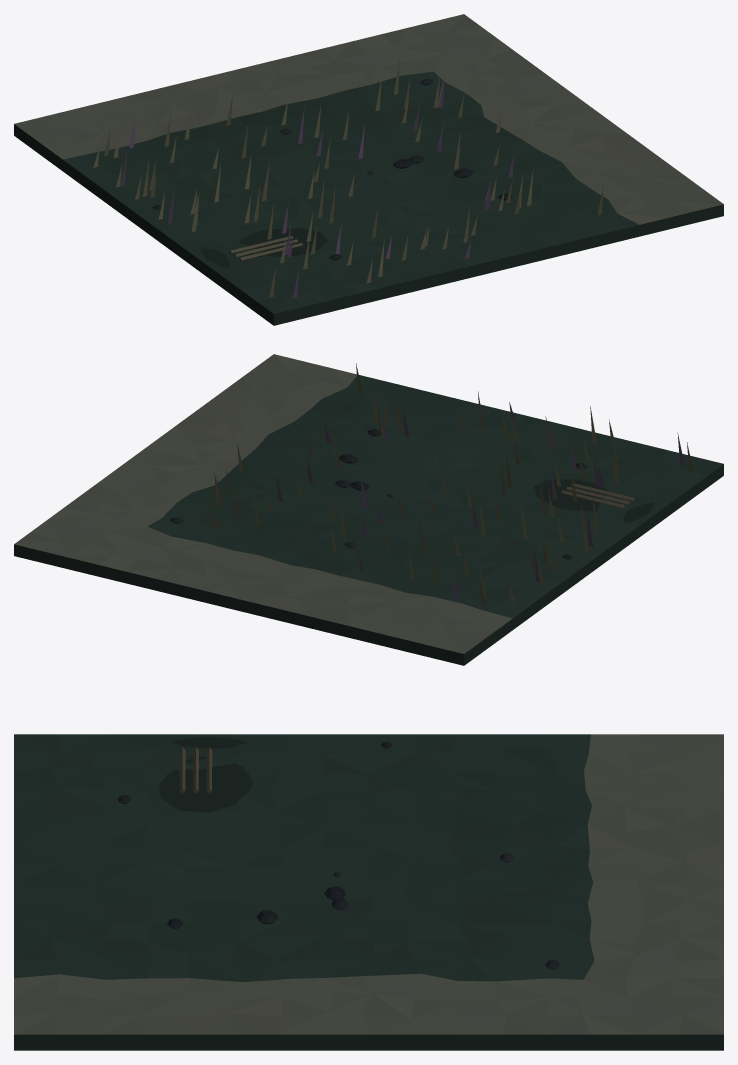
Rendered from CHUNK_abandoned_village__flooded_well_hamlet__01.glb.
3 renders of one model, top to bottom at view 1: azimuth 30°, elevation 25°; view 2: azimuth 150°, elevation 25°; view 3: azimuth 270°, elevation 25°, orthographic. The views are drawn at different scales.
Parts seen in each view (by area): view 1: CHUNK_abandoned_village__flooded_well_hamlet__01; view 2: CHUNK_abandoned_village__flooded_well_hamlet__01; view 3: CHUNK_abandoned_village__flooded_well_hamlet__01.
Part boxes in pixels (x1=…): CHUNK_abandoned_village__flooded_well_hamlet__01: x1=14, y1=14, x2=723, y2=325; CHUNK_abandoned_village__flooded_well_hamlet__01: x1=14, y1=354, x2=723, y2=665; CHUNK_abandoned_village__flooded_well_hamlet__01: x1=14, y1=734, x2=723, y2=1050.
Size of the model in its own units: 8 by 0.8772 by 8.
